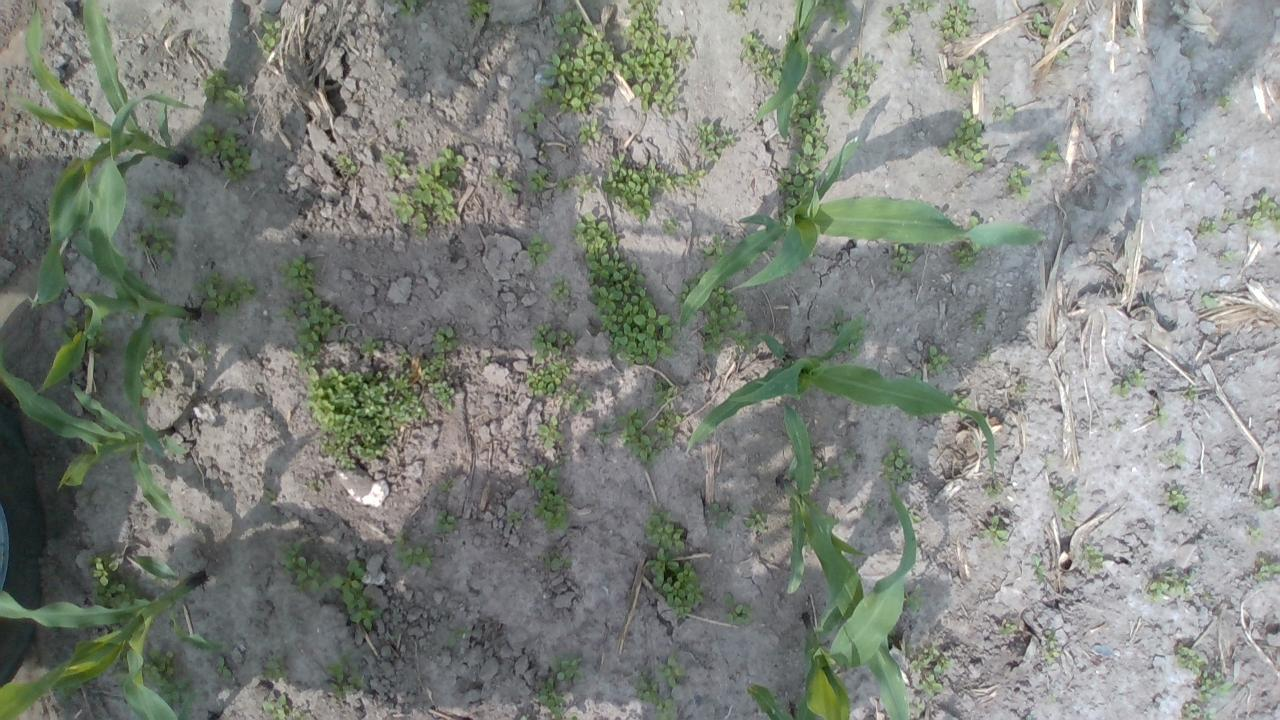Maize: (38, 91, 198, 530), (681, 138, 1048, 329), (688, 307, 1001, 490), (12, 0, 186, 301), (0, 312, 191, 534), (780, 402, 911, 720), (0, 551, 210, 720), (794, 483, 916, 720), (748, 0, 818, 143), (744, 681, 805, 720)
Weeds: (572, 212, 680, 366), (306, 366, 428, 470), (617, 0, 693, 117), (540, 27, 622, 117), (642, 508, 706, 620), (392, 150, 468, 240), (276, 288, 344, 368), (700, 278, 764, 354), (140, 642, 202, 720), (601, 156, 670, 225), (776, 136, 828, 216), (192, 122, 255, 183), (327, 560, 381, 630), (192, 267, 261, 317), (83, 550, 138, 607), (526, 461, 570, 532), (940, 108, 987, 174), (740, 31, 784, 88), (278, 541, 324, 595), (199, 66, 248, 116), (617, 406, 658, 465), (841, 55, 880, 114), (136, 336, 172, 399), (910, 642, 951, 697), (788, 80, 826, 136), (944, 53, 992, 97), (132, 222, 180, 266), (420, 325, 458, 380), (529, 319, 577, 362), (525, 358, 576, 397), (635, 669, 672, 720), (323, 654, 364, 700), (272, 252, 318, 291), (536, 678, 578, 720), (878, 437, 914, 484), (938, 0, 976, 44), (694, 121, 734, 162), (392, 533, 432, 571), (814, 449, 858, 481), (1245, 192, 1280, 232), (140, 188, 183, 220), (1048, 487, 1078, 530), (721, 590, 755, 627), (814, 0, 854, 29), (257, 13, 282, 58), (1198, 669, 1232, 702), (262, 694, 305, 720), (557, 382, 591, 414), (807, 44, 838, 79), (1150, 574, 1191, 600), (654, 410, 682, 448), (526, 230, 553, 269), (656, 654, 686, 688), (1132, 152, 1166, 182), (517, 100, 548, 132), (536, 415, 564, 450), (554, 6, 585, 37), (981, 515, 1009, 548), (552, 654, 586, 681), (430, 379, 458, 411), (701, 232, 733, 260), (51, 314, 82, 342), (1007, 164, 1032, 198), (1176, 644, 1205, 672), (709, 500, 734, 532), (1040, 626, 1060, 666), (742, 510, 772, 536), (432, 508, 462, 534), (382, 148, 409, 176), (884, 4, 909, 34), (889, 242, 914, 272), (924, 343, 948, 374), (1036, 138, 1062, 166), (1164, 486, 1190, 514), (679, 274, 704, 301), (672, 169, 707, 188), (1183, 700, 1216, 720), (574, 172, 600, 197), (1255, 556, 1280, 582), (335, 151, 362, 175), (262, 654, 285, 682), (652, 379, 674, 408), (213, 654, 234, 683), (526, 168, 550, 192), (955, 246, 979, 270), (578, 120, 602, 144), (1082, 544, 1104, 570), (1032, 10, 1052, 38), (548, 278, 571, 302), (826, 307, 848, 332), (906, 0, 941, 15), (950, 394, 971, 419), (903, 588, 923, 614), (1031, 553, 1048, 583), (846, 328, 864, 356), (544, 550, 571, 568), (501, 176, 524, 197), (1168, 440, 1186, 466), (195, 341, 215, 364), (590, 423, 610, 445), (360, 335, 383, 354), (465, 0, 492, 16), (993, 105, 1018, 122), (446, 628, 469, 646), (660, 218, 680, 238), (1198, 216, 1216, 238), (727, 0, 750, 15), (1246, 526, 1265, 544), (1200, 289, 1218, 308), (1128, 370, 1146, 388), (1000, 618, 1016, 638), (396, 0, 417, 15), (1170, 127, 1186, 146), (556, 176, 572, 194), (507, 510, 523, 528), (905, 506, 921, 524), (1256, 494, 1274, 510), (1153, 407, 1169, 425), (1112, 383, 1132, 396), (56, 686, 71, 701), (1221, 212, 1237, 226), (396, 349, 408, 366), (1214, 94, 1231, 106), (972, 310, 986, 324), (983, 485, 998, 498), (1183, 386, 1196, 401), (1220, 248, 1233, 262), (1014, 383, 1028, 395), (1056, 47, 1068, 61), (1124, 24, 1138, 36), (110, 618, 126, 628), (966, 216, 978, 229), (396, 118, 408, 129), (1200, 153, 1212, 164), (438, 478, 448, 490), (912, 370, 922, 382), (905, 54, 917, 64), (1045, 0, 1062, 6), (1046, 696, 1056, 704)
